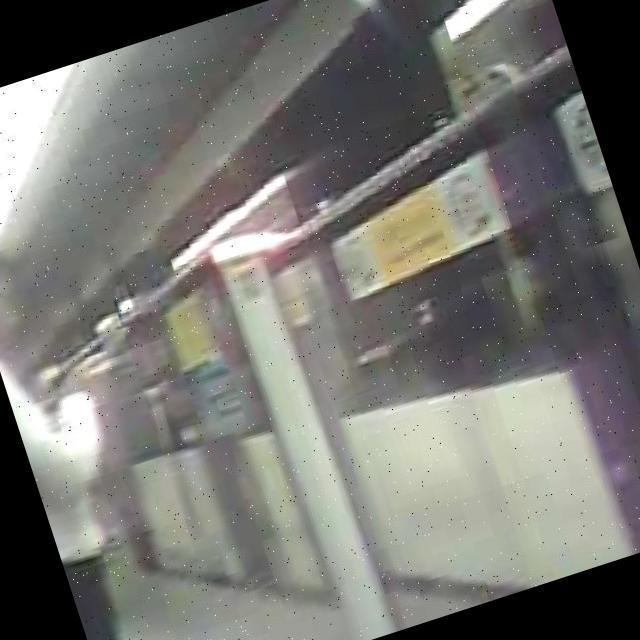person: (0, 211, 220, 640)
